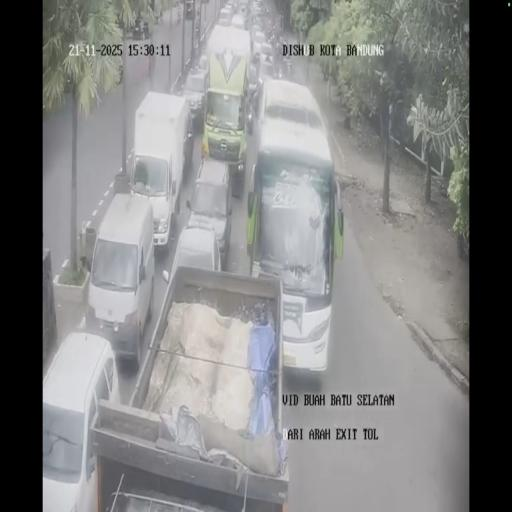3: (245, 81, 340, 373), (130, 92, 190, 250), (201, 24, 252, 178), (130, 19, 150, 40)
car: (184, 158, 234, 267), (182, 66, 209, 126), (246, 60, 260, 118), (258, 48, 276, 75), (248, 0, 265, 21), (218, 4, 234, 26), (252, 26, 265, 50), (231, 12, 245, 29), (198, 53, 208, 74), (239, 1, 247, 13)
